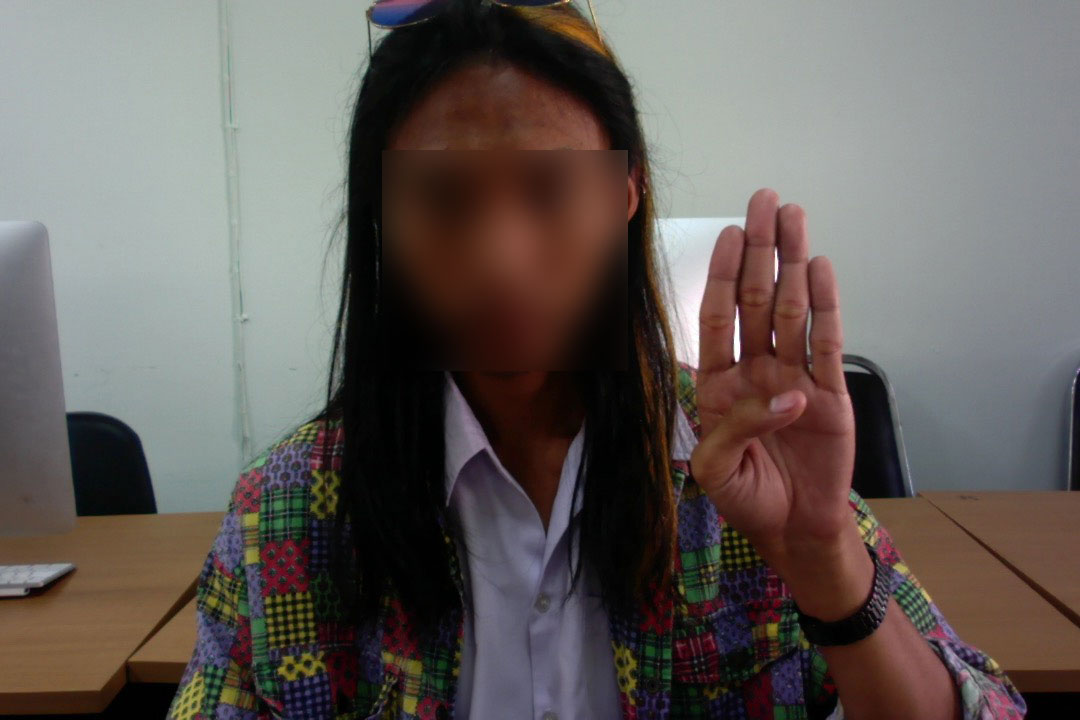bor: (681, 180, 888, 570)
